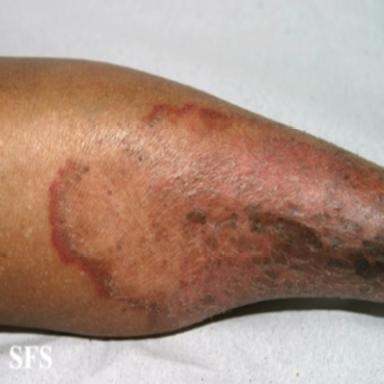Tinea-Corporis: (49, 102, 384, 329)
